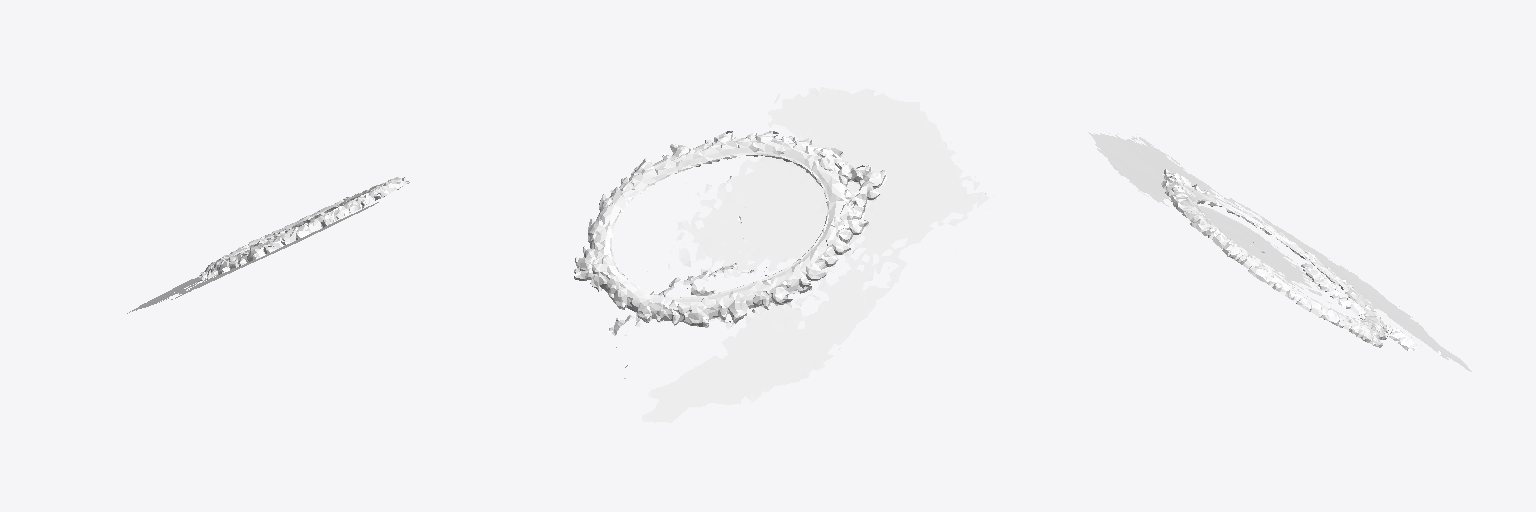
The model's file is mirror_holes.obj.
3 renders of one model, left to right at view 1: azimuth 30°, elevation 25°; view 2: azimuth 150°, elevation 25°; view 3: azimuth 270°, elevation 25°, orthographic.
Size of the model in its own units: 553 by 344 by 587.